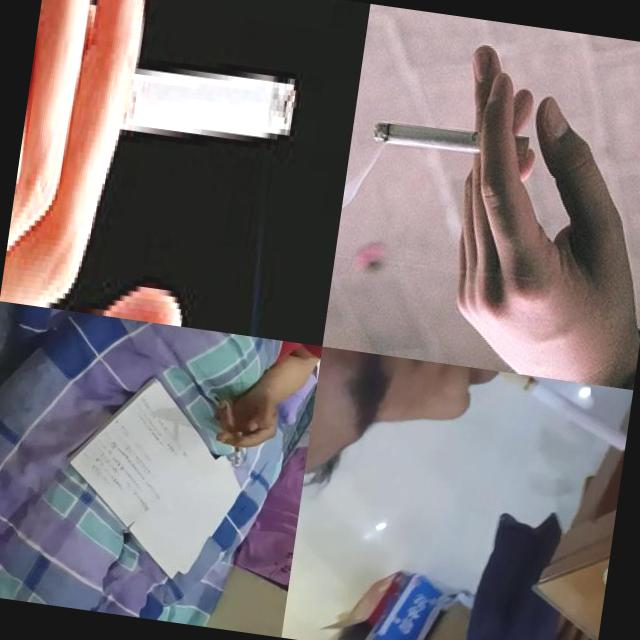smoke: (65, 48, 298, 161), (490, 372, 632, 451), (372, 114, 531, 164), (232, 432, 245, 466)
